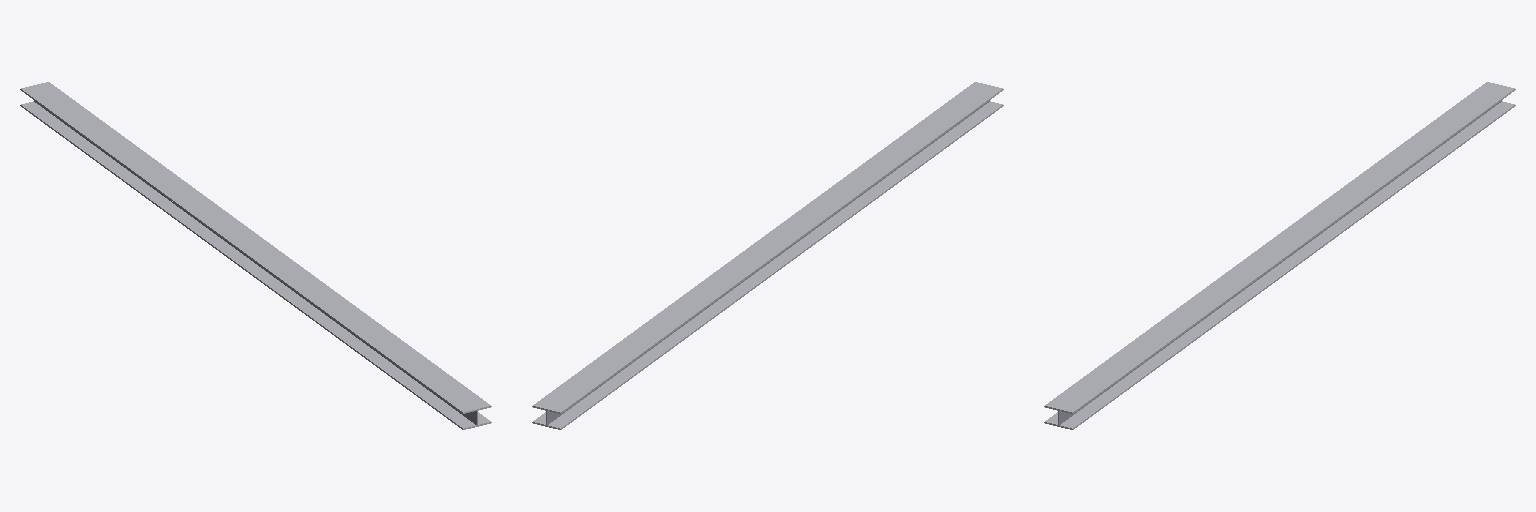
robot.urdf — h_bar:
<?xml version="1.0" ?>
<!-- =================================================================================== -->
<!-- |    This document was autogenerated by xacro from h_bar.xacro                    | -->
<!-- |    EDITING THIS FILE BY HAND IS NOT RECOMMENDED                                 | -->
<!-- =================================================================================== -->
<robot name="h_bar">
  <link name="world"/>
  <!-- Bottom leg (aligned with z-axis after rotation, below origin) -->
  <link name="hbar_bottom_leg">
    <visual>
      <origin rpy="0 1.57079633 0" xyz="0 0 0"/>
      <geometry>
        <!-- thickness x, profile width y, leg length along local z -->
        <box size="0.01 5.0 0.185"/>
      </geometry>
      <material name="hbar_material_bottom">
        <!-- Brushed steel-like gray -->
        <color rgba="0.75 0.75 0.78 1.0"/>
      </material>
    </visual>
    <collision>
      <origin rpy="0 1.57079633 0" xyz="0 0 0"/>
      <geometry>
        <box size="0.01 5.0 0.185"/>
      </geometry>
    </collision>
    <inertial>
      <origin rpy="0 0 0" xyz="0 0 0"/>
      <mass value="0.3333333333333333"/>
      <inertia ixx="0.6953951388888888" ixy="0.0" ixz="0.0" iyy="0.0009534722222222222" iyz="0.0" izz="0.6944472222222222"/>
    </inertial>
  </link>
  <!-- Top leg (aligned with z-axis after rotation, above origin) -->
  <link name="hbar_top_leg">
    <visual>
      <origin rpy="0 1.57079633 0" xyz="0 0 0"/>
      <geometry>
        <box size="0.01 5.0 0.185"/>
      </geometry>
      <material name="hbar_material_top">
        <!-- Brushed steel-like gray -->
        <color rgba="0.75 0.75 0.78 1.0"/>
      </material>
    </visual>
    <collision>
      <origin rpy="0 1.57079633 0" xyz="0 0 0"/>
      <geometry>
        <box size="0.01 5.0 0.185"/>
      </geometry>
    </collision>
    <inertial>
      <origin rpy="0 0 0" xyz="0 0 0"/>
      <mass value="0.3333333333333333"/>
      <inertia ixx="0.6953951388888888" ixy="0.0" ixz="0.0" iyy="0.0009534722222222222" iyz="0.0" izz="0.6944472222222222"/>
    </inertial>
  </link>
  <!-- Crossbar: vertical (aligned with z-axis) at the origin -->
  <link name="hbar_crossbar">
    <visual>
      <!-- Thickness in x,y, length in z -->
      <origin rpy="0 0 0" xyz="0 0 0"/>
      <geometry>
        <box size="0.01 5.0 0.1"/>
      </geometry>
      <material name="hbar_material_cross">
        <!-- Slightly darker steel for visual contrast -->
        <color rgba="0.65 0.65 0.7 1.0"/>
      </material>
    </visual>
    <collision>
      <origin rpy="0 0 0" xyz="0 0 0"/>
      <geometry>
        <box size="0.01 5.0 0.1"/>
      </geometry>
    </collision>
    <inertial>
      <origin rpy="0 0 0" xyz="0 0 0"/>
      <mass value="0.3333333333333333"/>
      <inertia ixx="0.6947222222222222" ixy="0.0" ixz="0.0" iyy="0.0002805555555555556" iyz="0.0" izz="0.6944472222222222"/>
    </inertial>
  </link>
  <!-- Fix crossbar to world; its center is at the macro pose -->
  <joint name="hbar_cross_fix" type="fixed">
    <parent link="world"/>
    <child link="hbar_crossbar"/>
    <origin rpy="0 0 0" xyz="0 0 0"/>
  </joint>
  <!-- Top leg: translated +L_leg/2 in x and +L_span/2 in z relative to crossbar -->
  <joint name="hbar_top_fix" type="fixed">
    <parent link="hbar_crossbar"/>
    <child link="hbar_top_leg"/>
    <origin rpy="0 0.0 0" xyz="0 0 0.05"/>
  </joint>
  <!-- Bottom leg: translated +L_leg/2 in x and -L_span/2 in z relative to crossbar -->
  <joint name="hbar_bottom_fix" type="fixed">
    <parent link="hbar_crossbar"/>
    <child link="hbar_bottom_leg"/>
    <origin rpy="0 0 0" xyz="0 0 -0.05"/>
  </joint>
</robot>

--- Render facts (derived) ---
3 views of the same robot in one strip: view 1: azimuth 30°, elevation 25°; view 2: azimuth 150°, elevation 25°; view 3: azimuth 330°, elevation 25° (orthographic).
Model h_bar with 4 links and 3 joints (3 fixed), rooted at world, posed every joint at zero.
Visible links, largest first — view 1: hbar_top_leg, hbar_bottom_leg, hbar_crossbar; view 2: hbar_top_leg, hbar_bottom_leg, hbar_crossbar; view 3: hbar_top_leg, hbar_bottom_leg, hbar_crossbar.
Boxes of the visible links, left/top/right/bottom form: hbar_top_leg: left=20, top=82, right=491, bottom=413; hbar_bottom_leg: left=20, top=101, right=491, bottom=429; hbar_crossbar: left=34, top=100, right=477, bottom=424; hbar_top_leg: left=532, top=82, right=1003, bottom=413; hbar_bottom_leg: left=532, top=101, right=1003, bottom=429; hbar_crossbar: left=546, top=100, right=989, bottom=424; hbar_top_leg: left=1044, top=82, right=1515, bottom=413; hbar_bottom_leg: left=1044, top=101, right=1515, bottom=429; hbar_crossbar: left=1058, top=100, right=1501, bottom=424.
Size in the robot's own frame: 0.185 by 5 by 0.11 metres.
Geometry: primitives only (box / cylinder / sphere), no mesh files.
